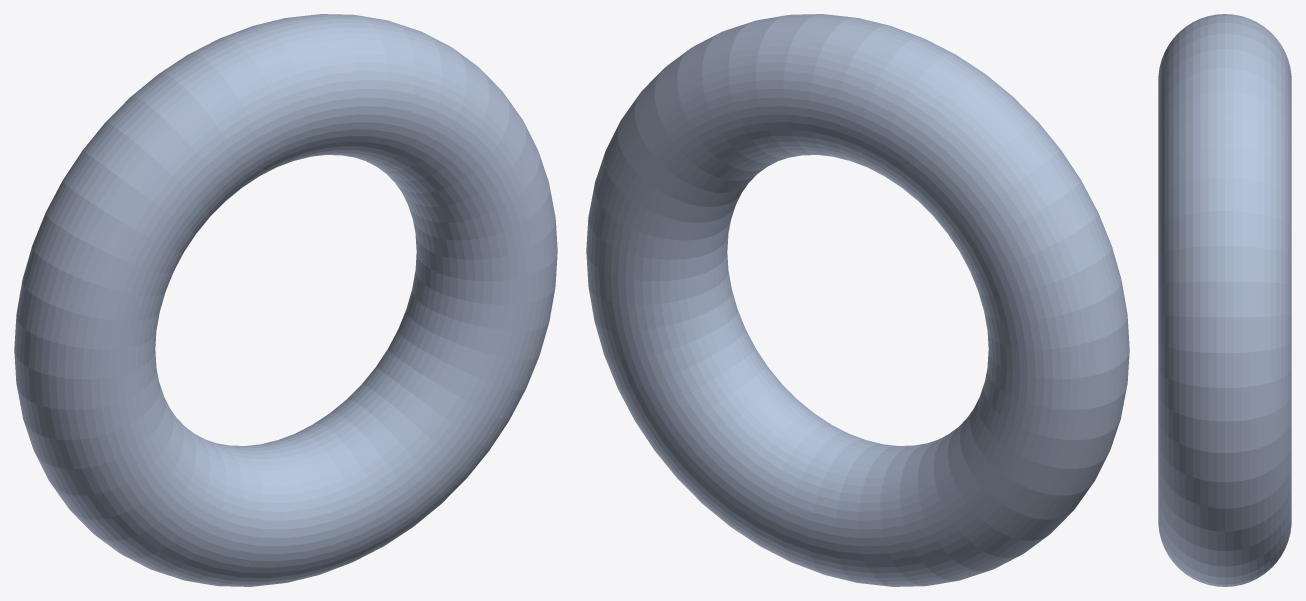
The picture shows the model from 3 angles, left to right: view 1: azimuth 30°, elevation 25°; view 2: azimuth 150°, elevation 25°; view 3: azimuth 270°, elevation 25°; orthographic projection. The views are drawn at different scales.
Parts seen in each view (by area): view 1: world; view 2: world; view 3: world.
Part boxes in pixels (<box>): world: <box>14,14,557,586</box>; world: <box>586,14,1129,586</box>; world: <box>1158,14,1291,586</box>.
Size of the model in its own units: 23.47 by 23.42 by 5.46.
